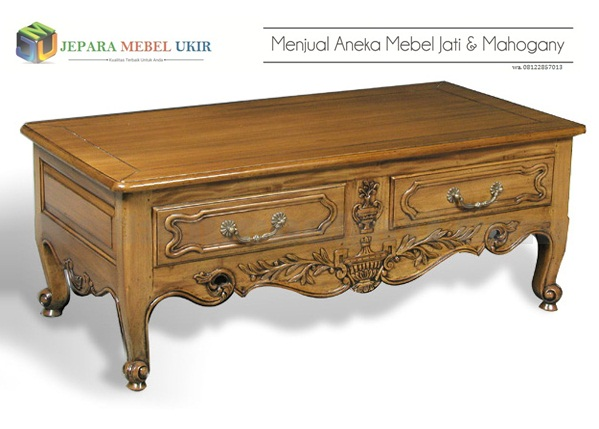Carving Table: (15, 93, 572, 377)
